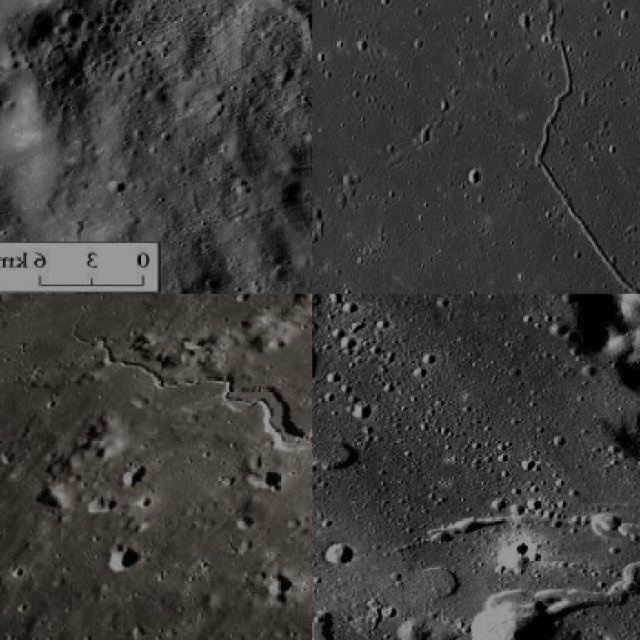crater: (312, 0, 638, 292), (69, 308, 311, 542), (312, 294, 340, 638)
